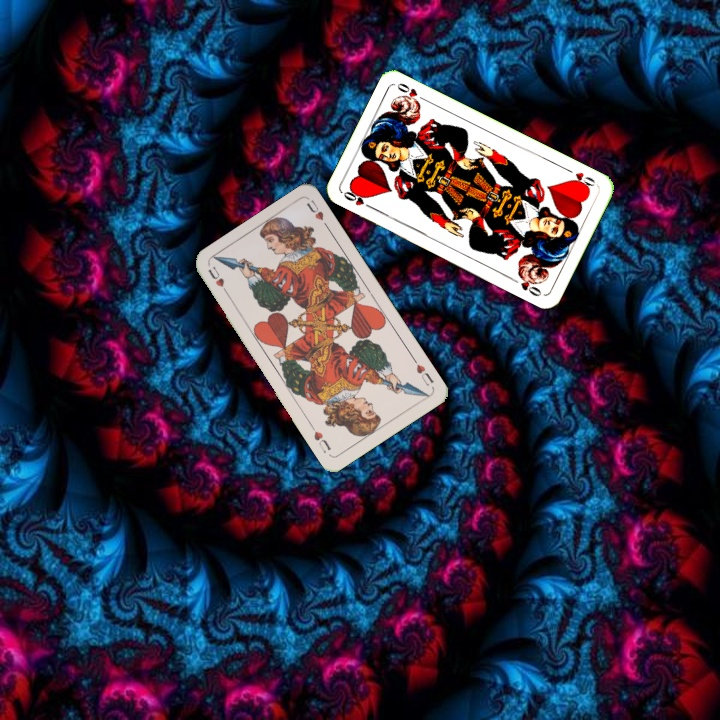HO: (562, 164, 600, 192), (339, 186, 377, 212)
HU: (204, 262, 232, 299), (409, 354, 437, 389)
